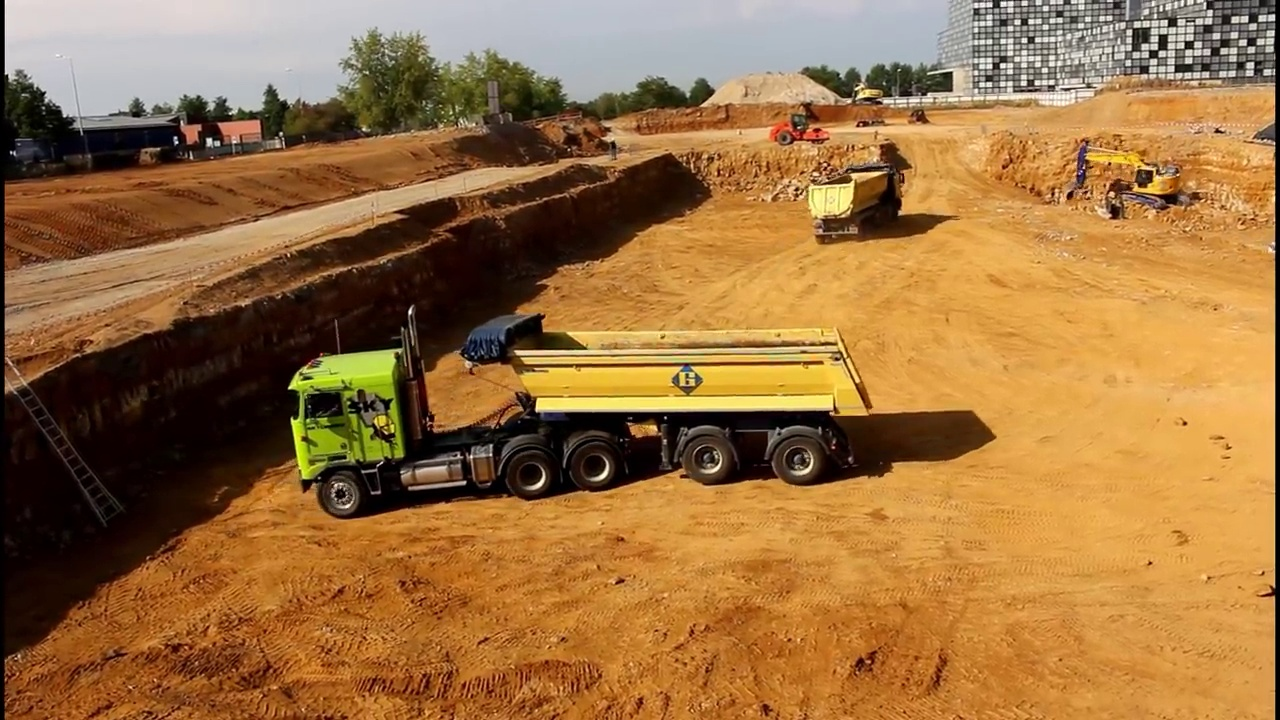compactor: (768, 110, 831, 147)
excavator: (1064, 141, 1198, 214), (846, 78, 884, 107)
truck: (281, 303, 878, 523), (806, 161, 907, 247)
worker: (609, 133, 620, 162)
